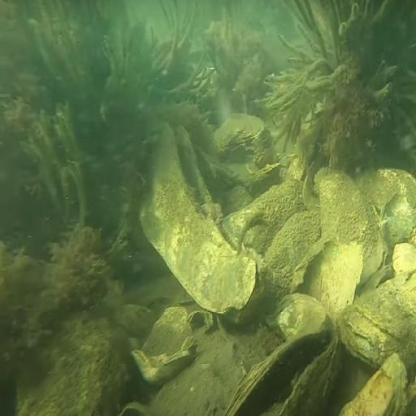Oyster-Closed: (315, 167, 383, 285), (337, 274, 416, 372), (352, 165, 416, 249), (262, 215, 323, 289), (339, 354, 410, 416), (271, 291, 329, 340), (143, 306, 193, 359), (212, 110, 263, 159), (137, 346, 193, 386), (392, 242, 416, 308)
Oyster-Open: (139, 115, 257, 317), (226, 330, 343, 416)
